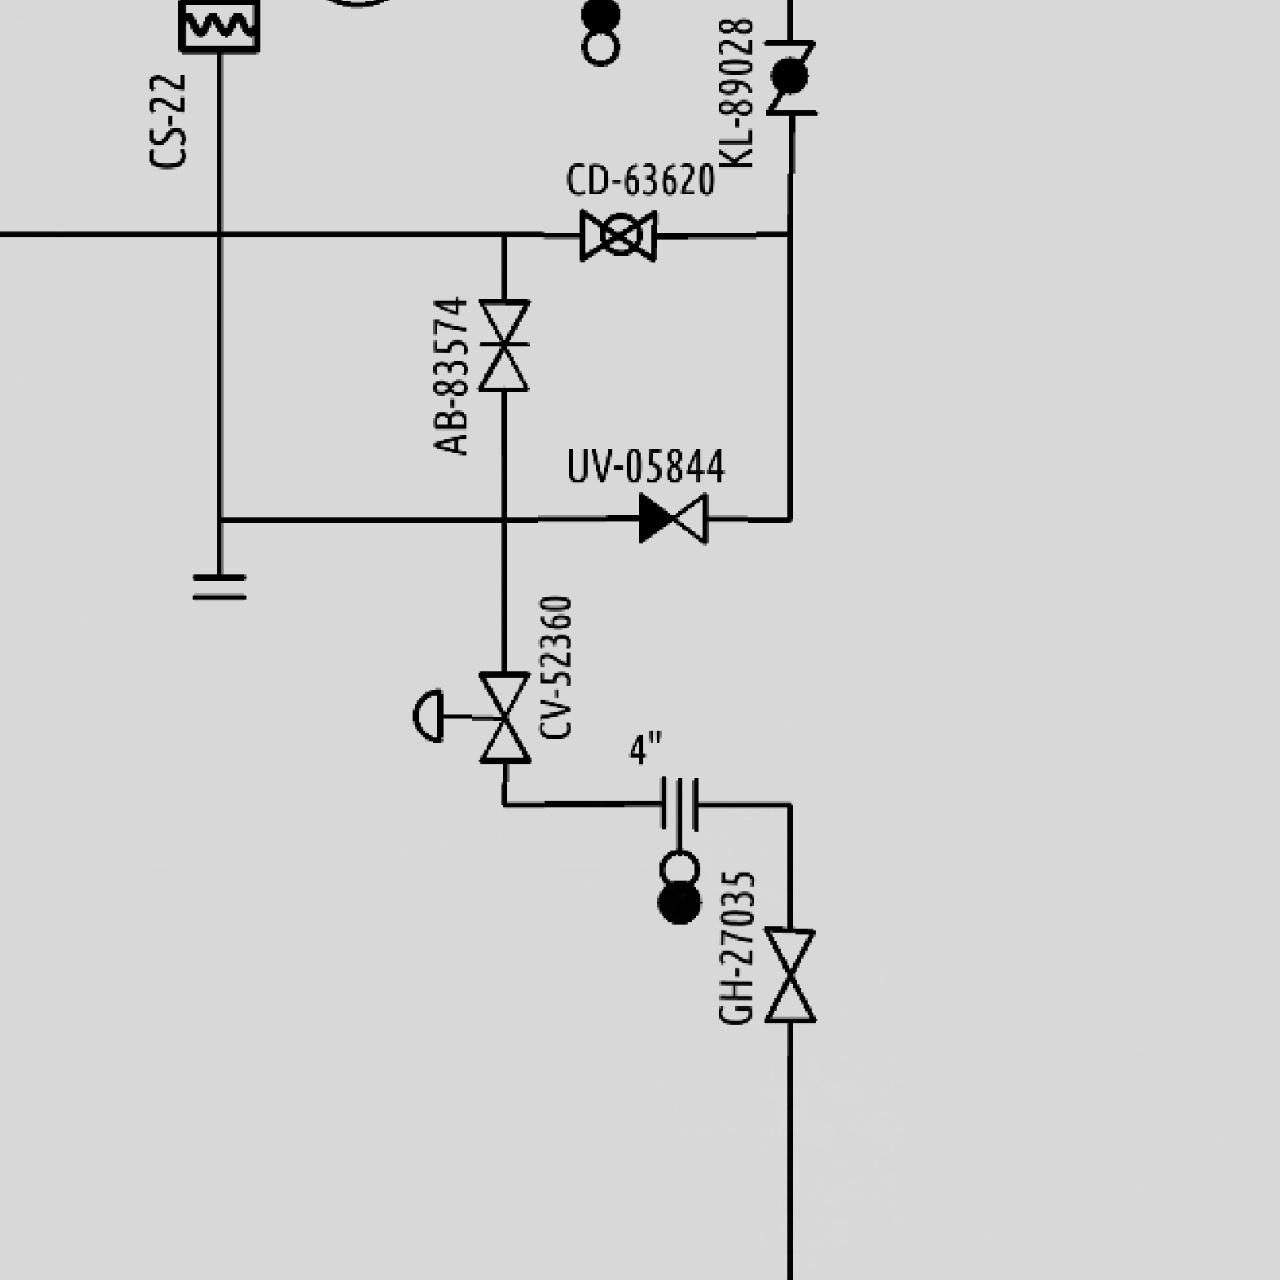Half closed valve: (633, 487, 710, 548)
